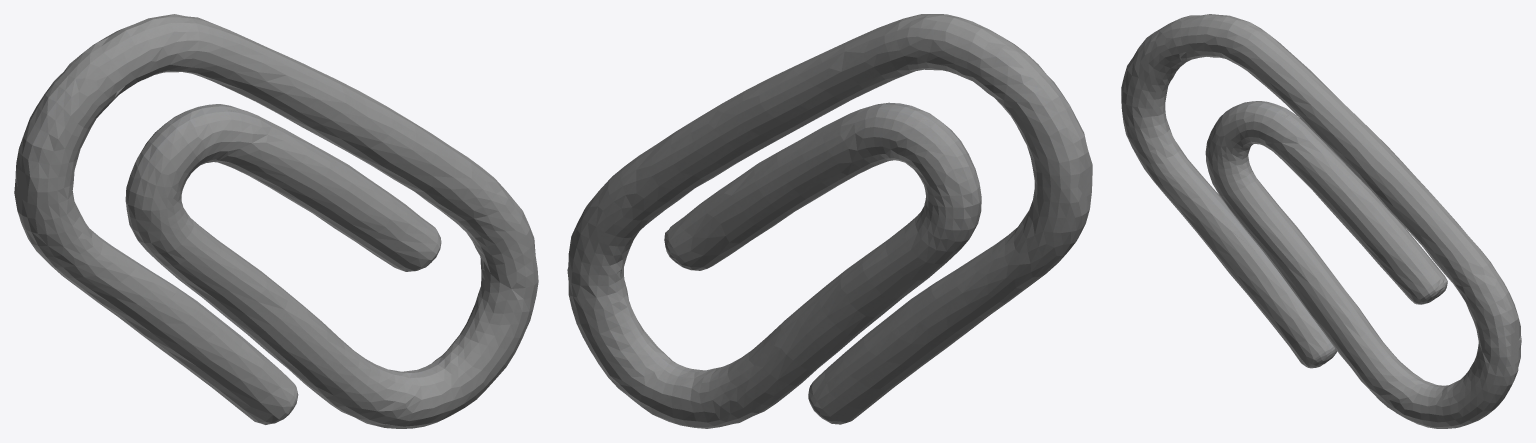
The model's file is metal_paper_clip.glb.
3 views of the same model, side by side, from view 1: azimuth 30°, elevation 25°; view 2: azimuth 150°, elevation 25°; view 3: azimuth 330°, elevation 25° (orthographic). The views are drawn at different scales.
Parts seen in each view (by area): view 1: mesh_node; view 2: mesh_node; view 3: mesh_node.
Boxes of the visible parts, x1=… form: mesh_node: x1=14, y1=14, x2=538, y2=428; mesh_node: x1=567, y1=14, x2=1092, y2=428; mesh_node: x1=1121, y1=14, x2=1521, y2=428.
Bounding box in the file's own units: 1 × 0.8848 × 0.0959.
Materials: 1 (1 with a texture image).
